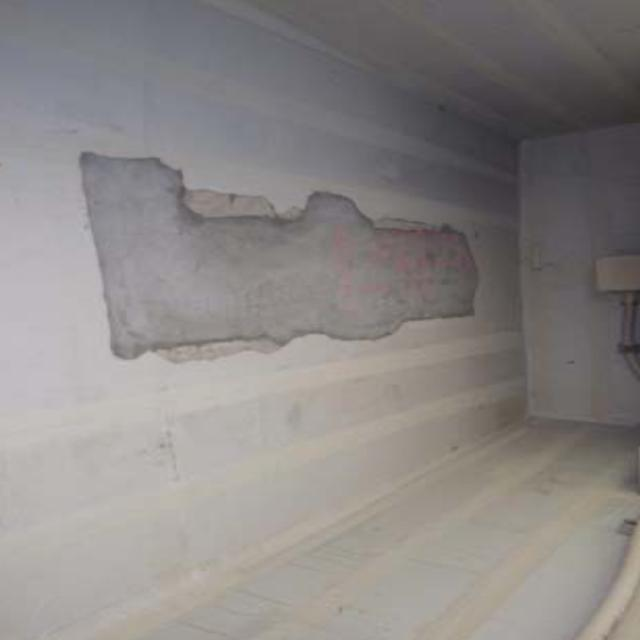spalling: (76, 138, 516, 376)
